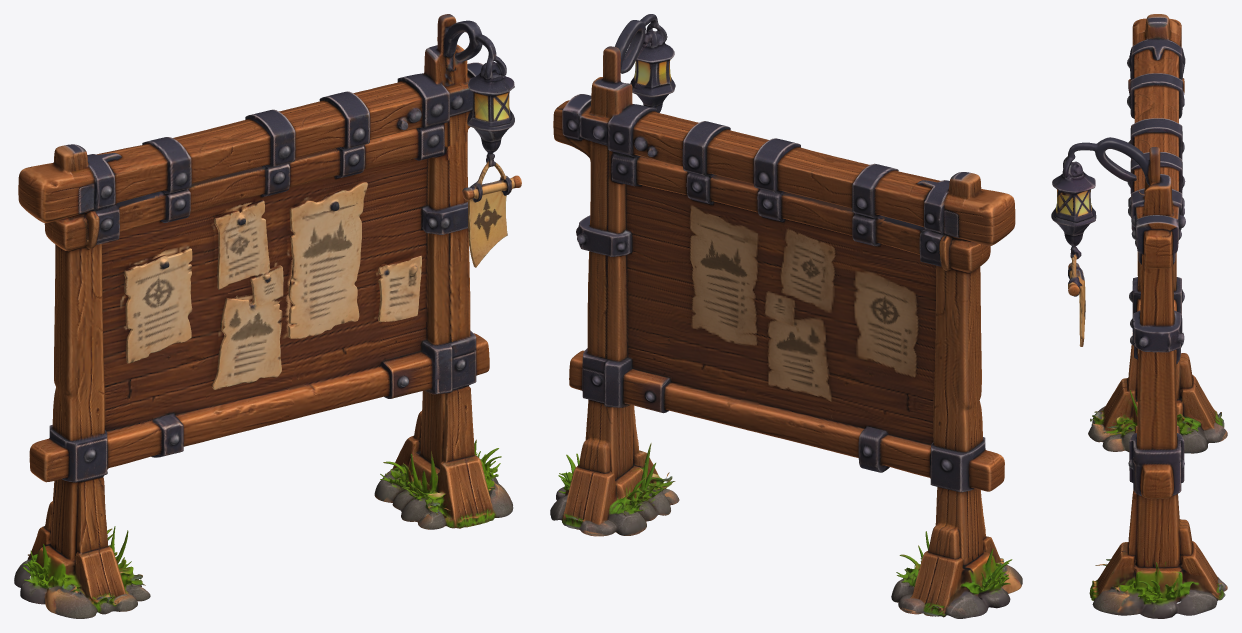
The model's file is Quadro_de_ Missões_Medieval.glb.
3 renders of one model, left to right at view 1: azimuth 30°, elevation 25°; view 2: azimuth 150°, elevation 25°; view 3: azimuth 270°, elevation 25°, orthographic. The views are drawn at different scales.
Bounding box in the file's own units: 1.89 × 1.88 × 0.6562.
Materials: 1 (1 with a texture image).
